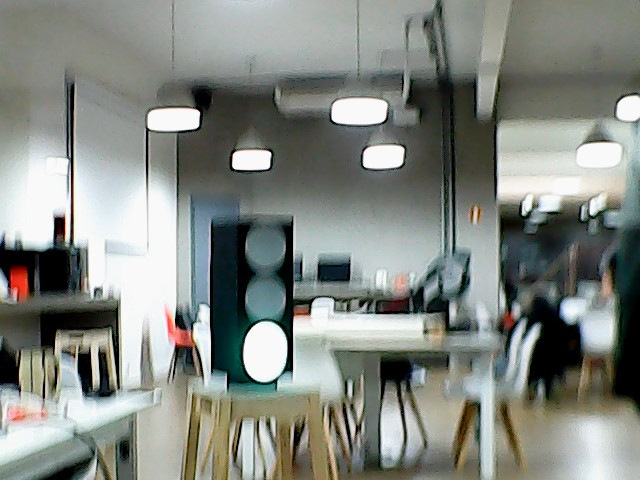verde: (207, 213, 298, 392)
